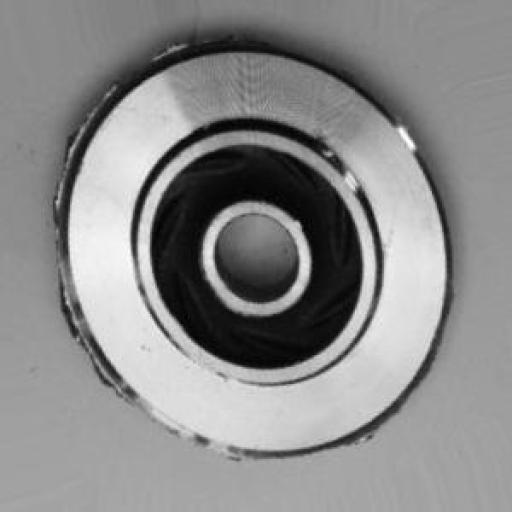defect: (32, 32, 478, 464)
